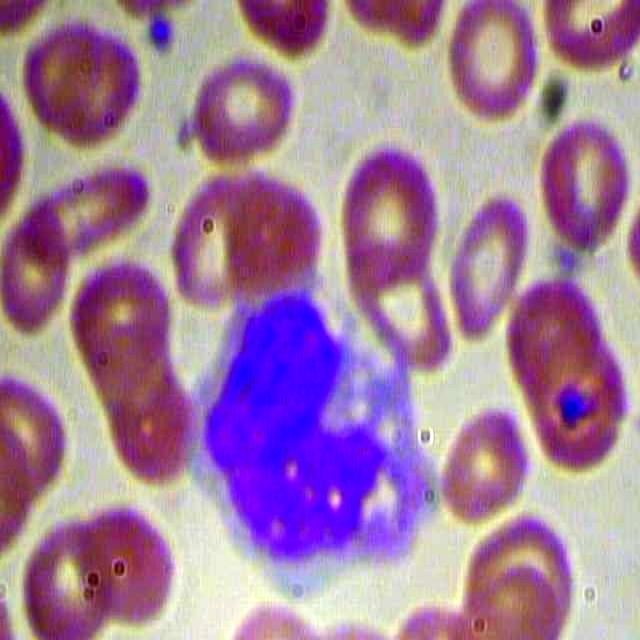RBC: (17, 153, 152, 264), (336, 136, 436, 285), (445, 1, 543, 151), (348, 240, 457, 369), (186, 52, 303, 172), (71, 492, 183, 617), (446, 191, 530, 340), (444, 383, 528, 532), (544, 107, 628, 256)
WBC: (185, 284, 441, 581)
